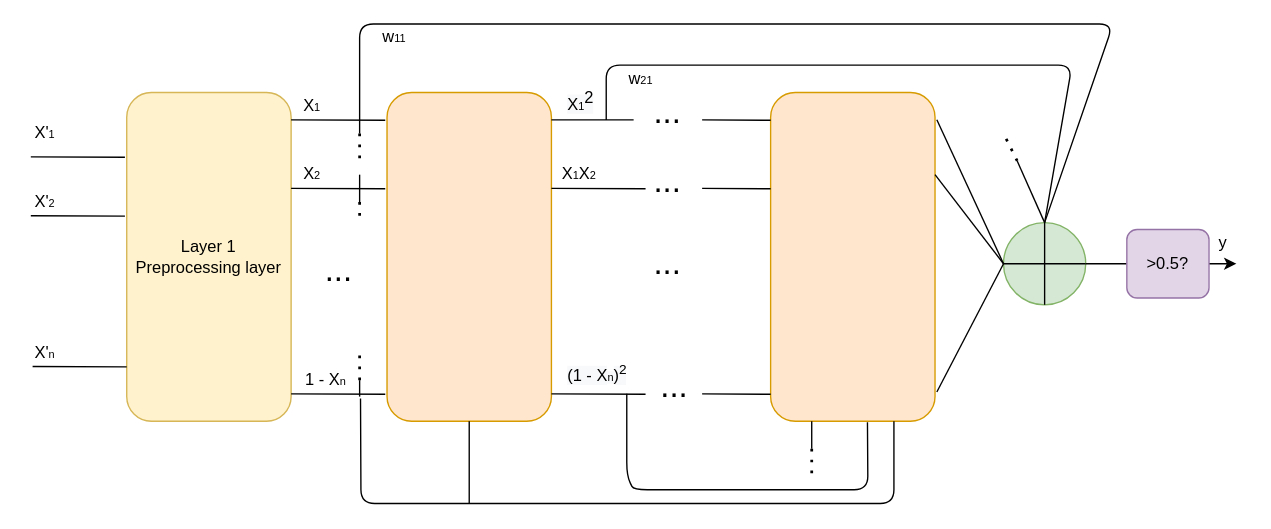
The diagram is 1271 pixels wide and 529 high, and some of its shapes have lost their labels. The shapes that lost their labels are listed below. From the top down, each one's centre as x and y in pixels, then its label:
the point at 468,256: Layer 2 (for monomials of degree 2)
the point at 852,256: Layer d max (for monomials of degree d max )
